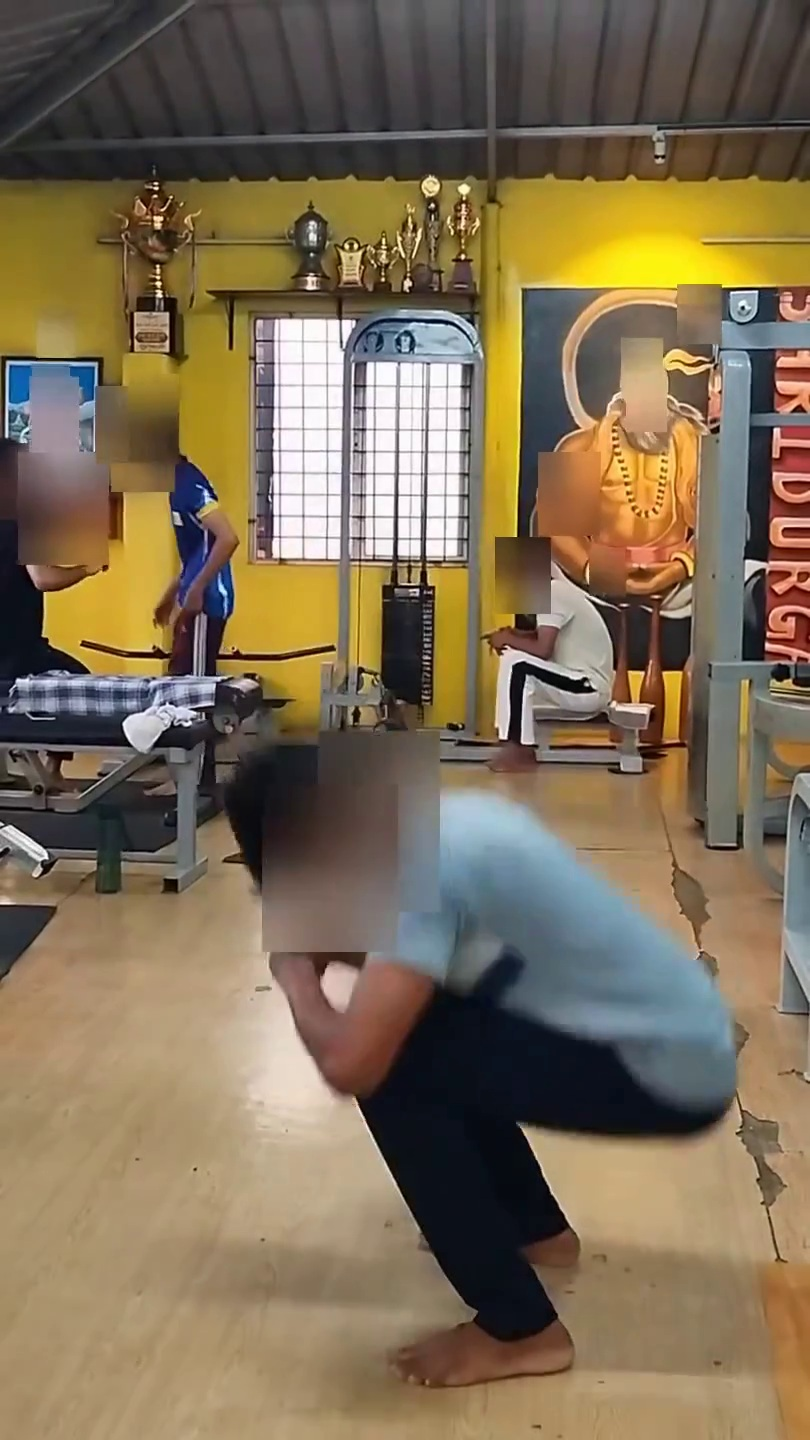squat_incorrect: (247, 812, 657, 1408)
